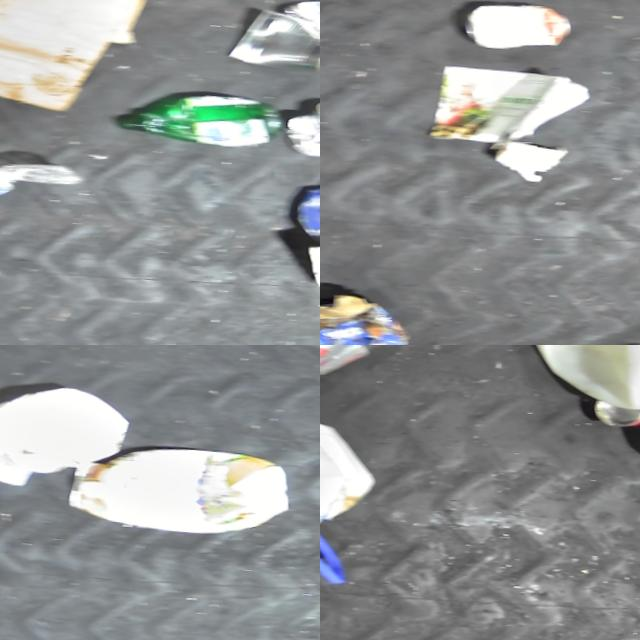can: (457, 0, 581, 58), (225, 8, 320, 76), (285, 96, 320, 164), (281, 0, 320, 39), (594, 401, 640, 431)
milk_jug: (320, 384, 391, 543), (509, 345, 640, 420)
non_white_jug: (68, 437, 303, 545)
plastic_bottle: (320, 345, 443, 414), (0, 150, 94, 219)
